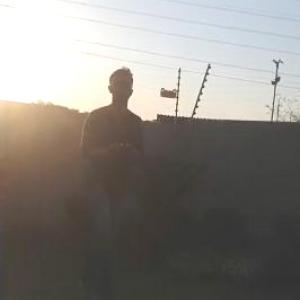follow: (71, 53, 149, 299)
